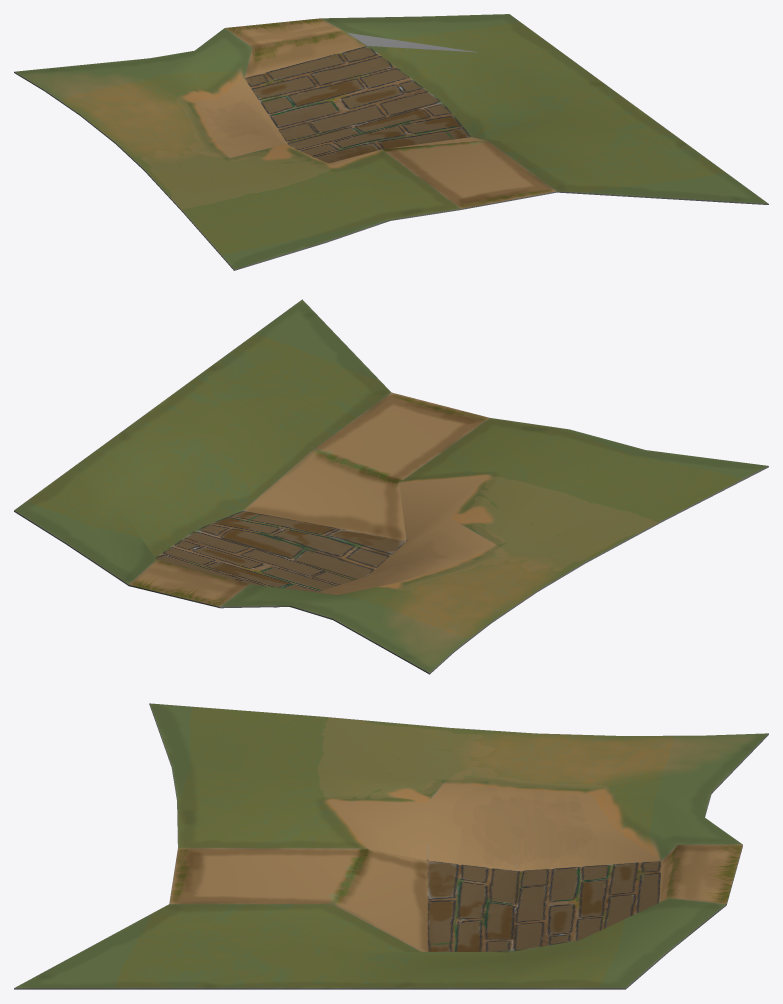
Rendered from TempleGround.fbx.
3 views of the same model, one above another, from view 1: azimuth 30°, elevation 25°; view 2: azimuth 150°, elevation 25°; view 3: azimuth 270°, elevation 25° (orthographic). The views are drawn at different scales.
Parts seen in each view (by area): view 1: TempleArea; view 2: TempleArea; view 3: TempleArea.
Boxes of the visible parts, x1,y1,x2,y2 form: TempleArea: (14, 14, 768, 270); TempleArea: (14, 299, 768, 674); TempleArea: (14, 703, 768, 989).
Size of the model in its own units: 1219 by 111 by 1416.
